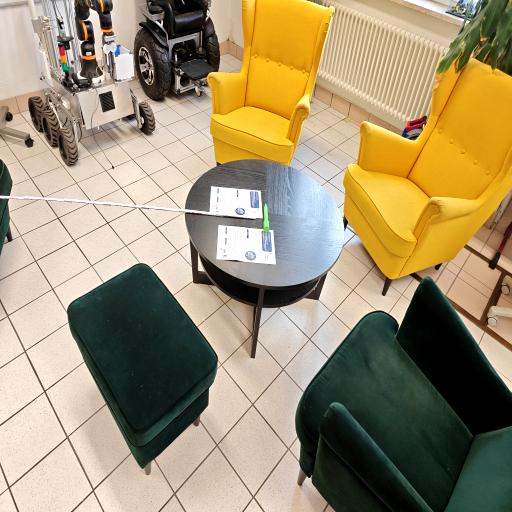Probe-Detection: (263, 204, 269, 232)
